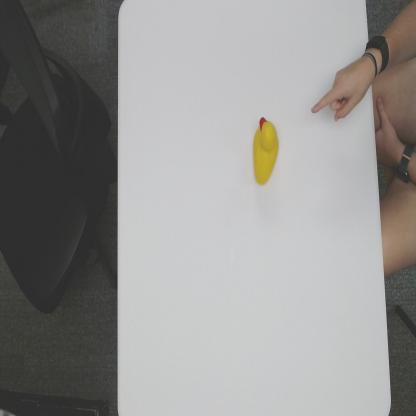Duck: (251, 115, 281, 187)
Hand: (309, 51, 374, 120)
